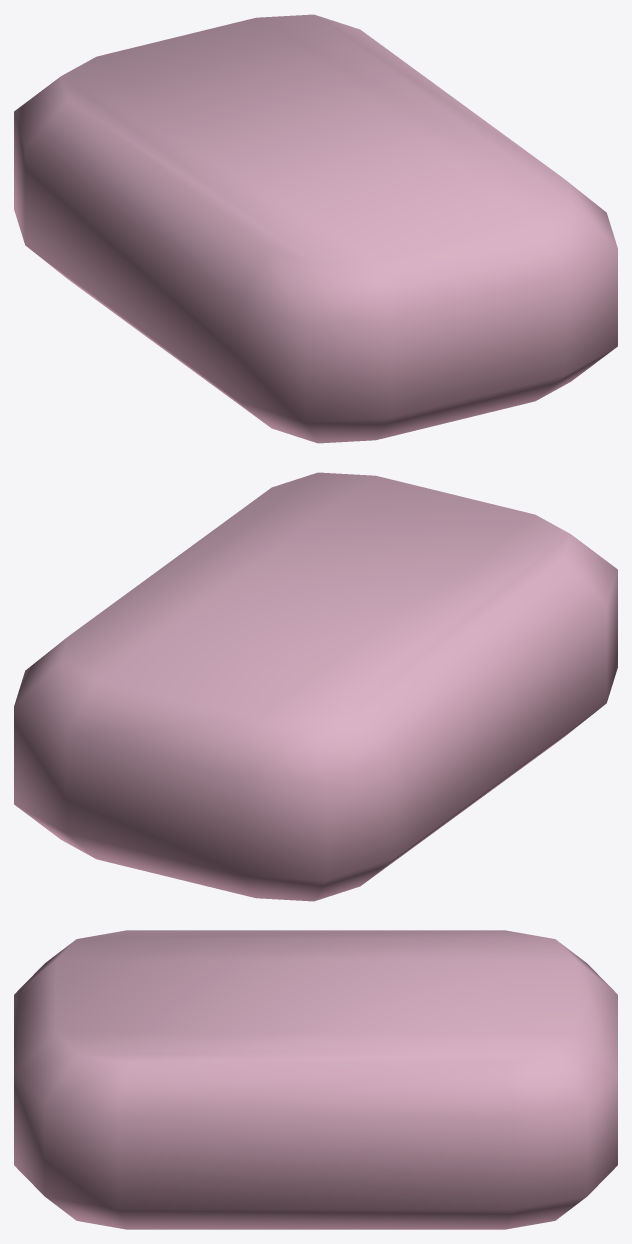
Rendered from soap.glb.
3 renders of one model, top to bottom at view 1: azimuth 30°, elevation 25°; view 2: azimuth 150°, elevation 25°; view 3: azimuth 270°, elevation 25°, orthographic. The views are drawn at different scales.
Visible parts, largest first — view 1: soap; view 2: soap; view 3: soap.
Part boxes in pixels (x1,y1,x2,y2): soap: (14, 14, 617, 443); soap: (14, 472, 617, 901); soap: (14, 930, 617, 1229).
Size of the model in its own units: 0.095 by 0.044 by 0.1444.
